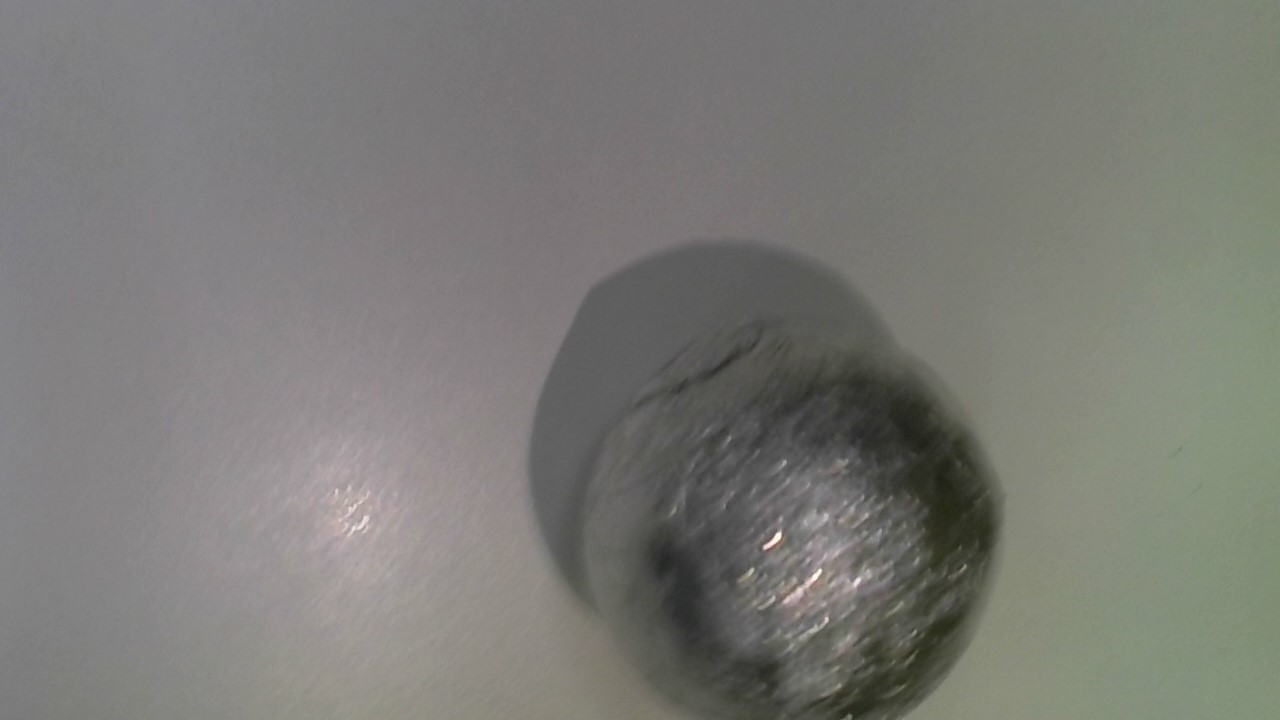silver_ball: (573, 316, 1009, 720)
